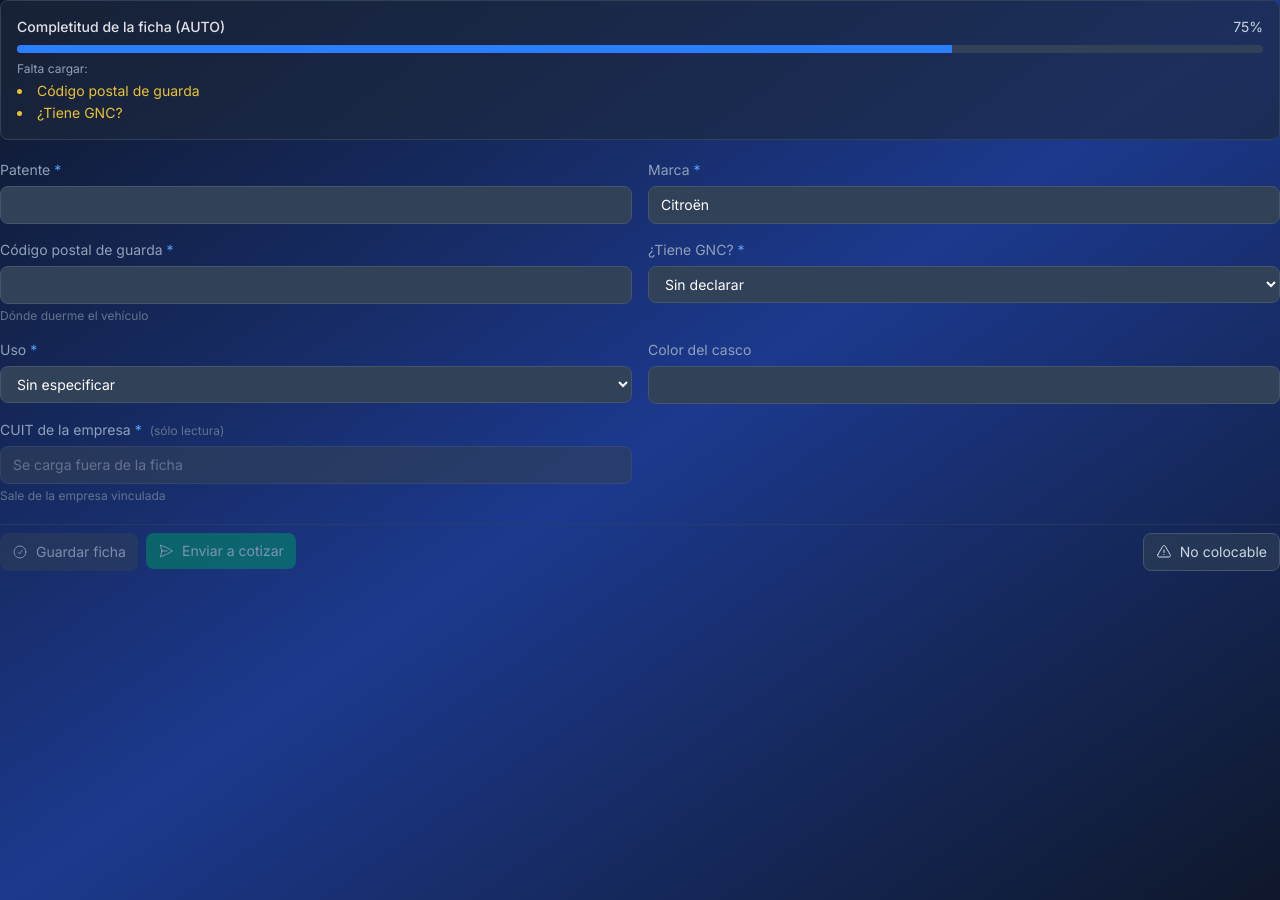
Test: D-C23 · no colocable › el motivo OTRO exige detalle antes de mandar nada
Expected: the text "Completitud de la ficha (AUTO)" is shown, x1=17 y1=17 x2=225 y2=37
Click the button "No colocable". click: (1211, 552)
box: x1=1143 y1=533 x2=1279 y2=571
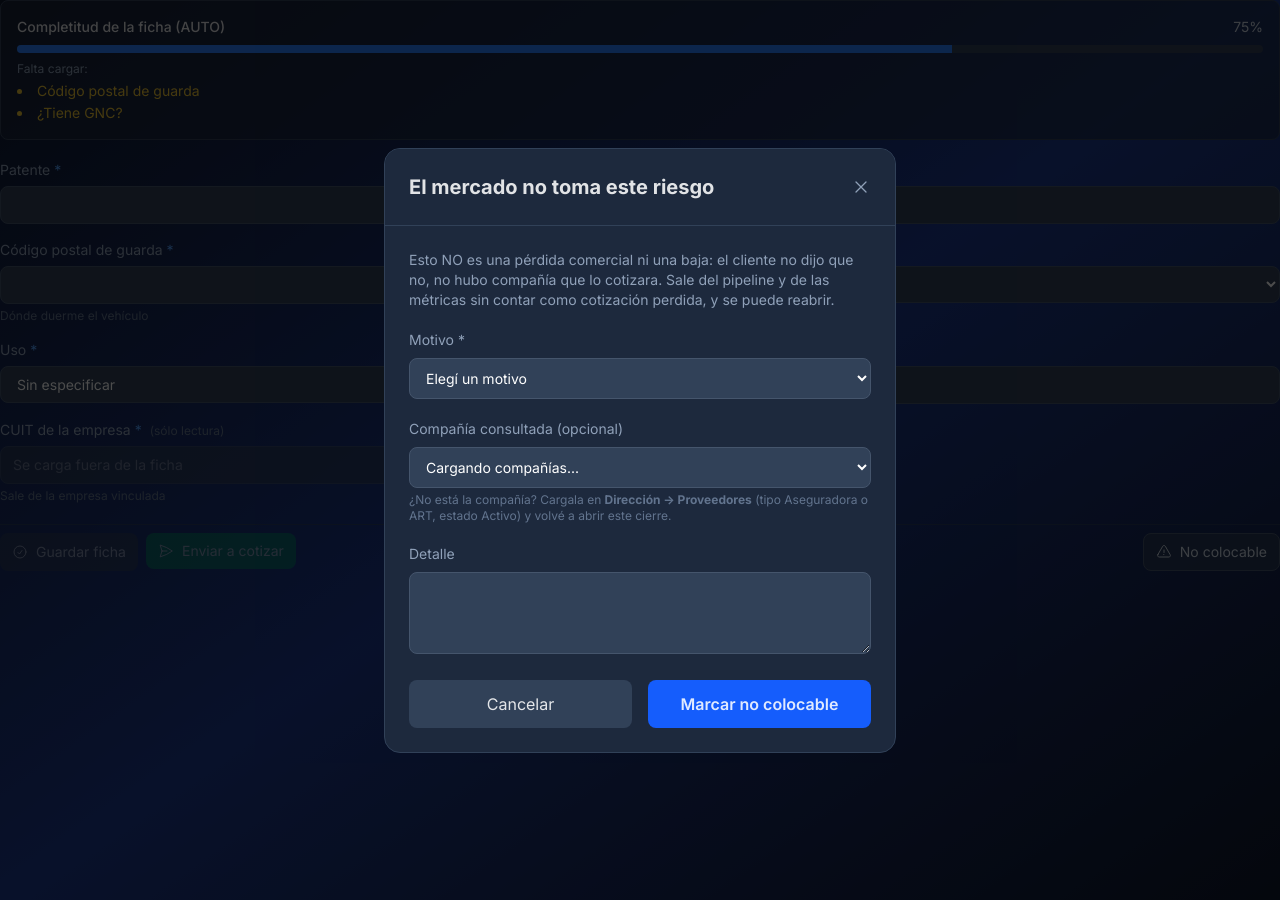
Expected: the dropdown labelled "Motivo *" is shown
Select "Otro" in the dropdown labelled "Motivo *". click: (640, 378)
box: x1=409 y1=358 x2=871 y2=398
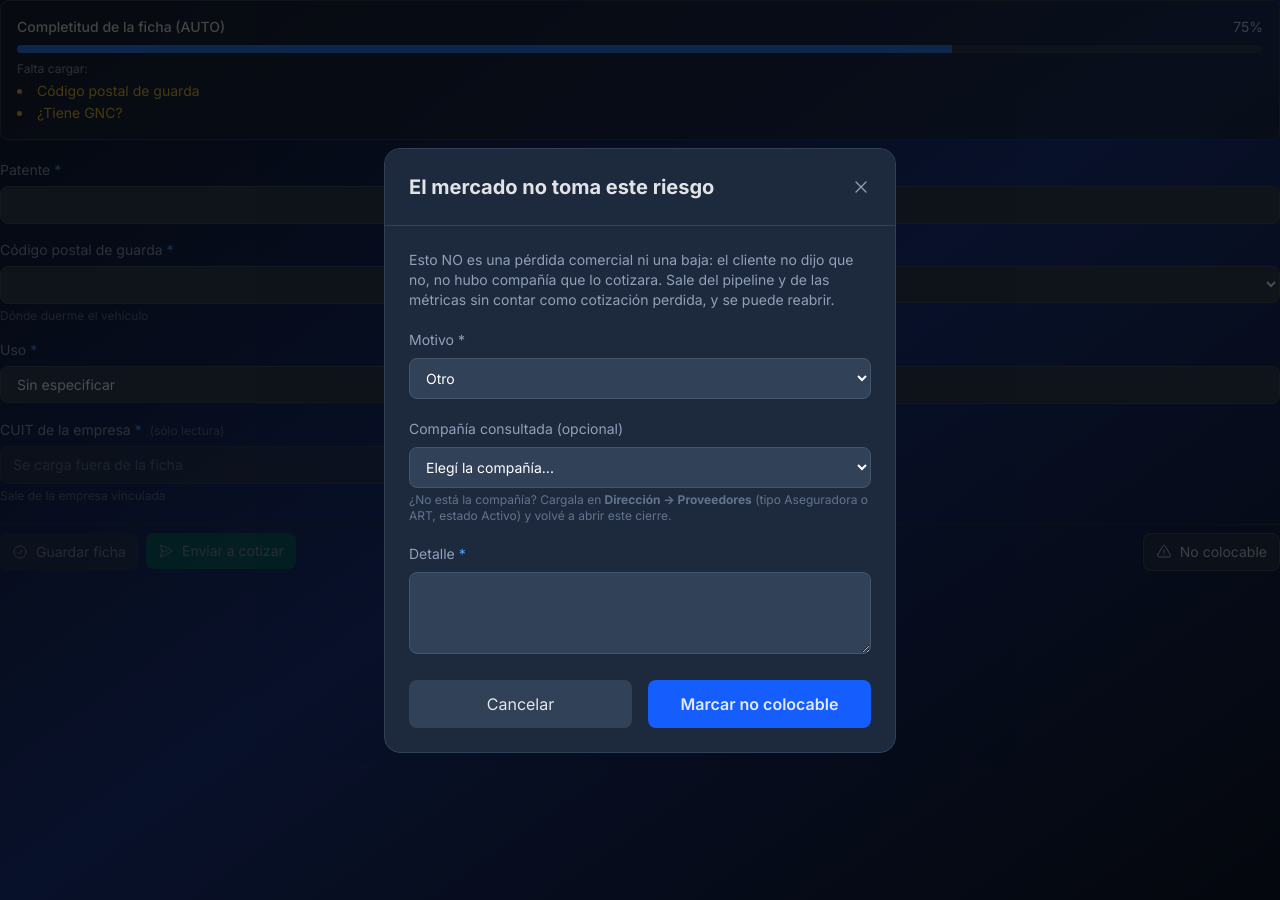
Click the button "Marcar no colocable". click: (760, 704)
box: x1=648 y1=680 x2=871 y2=728
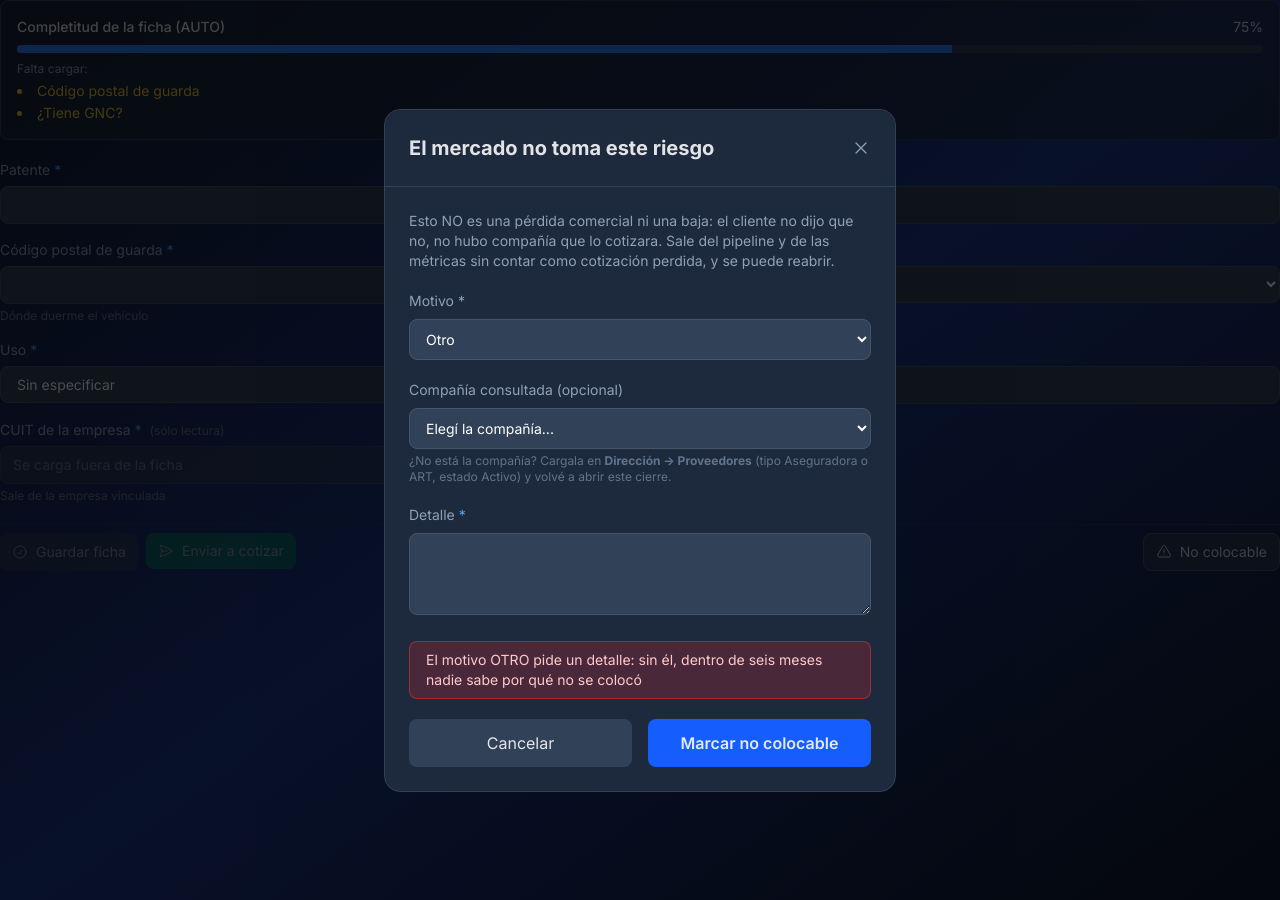
Expected: the text "pide un detalle" is shown, x1=426 y1=650 x2=822 y2=688
